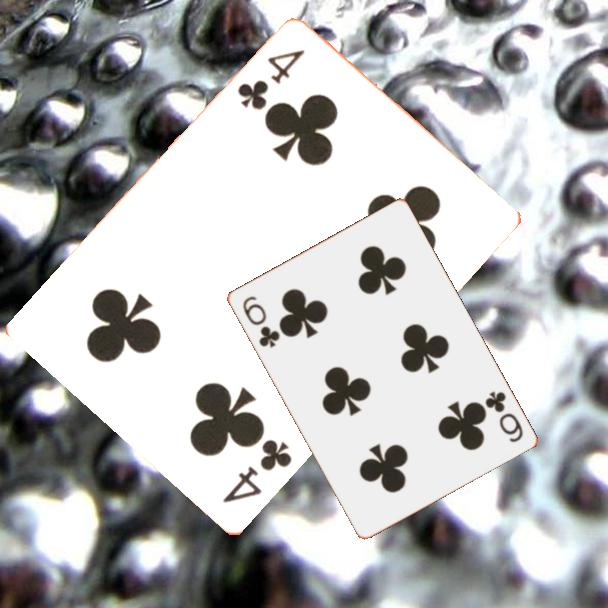c04: (218, 436, 295, 507), (233, 46, 308, 114)
c06: (481, 387, 526, 445), (239, 292, 283, 350)
